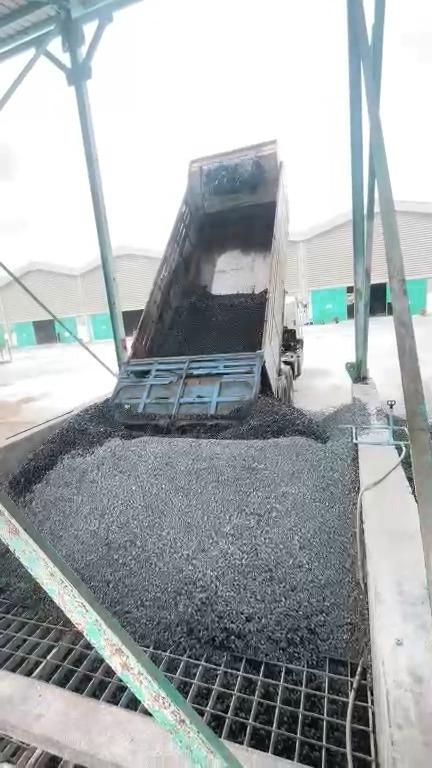gravel: (3, 379, 371, 662), (154, 286, 265, 355), (1, 544, 45, 600), (401, 444, 418, 506)
sand: (1, 400, 47, 443)
